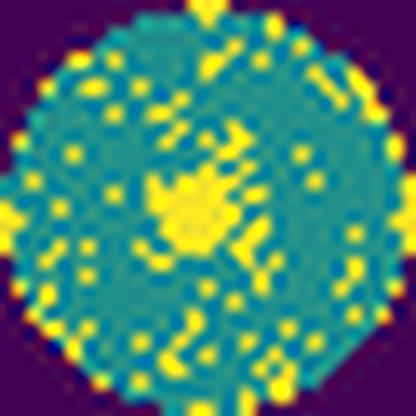Center: (130, 117, 275, 276)
